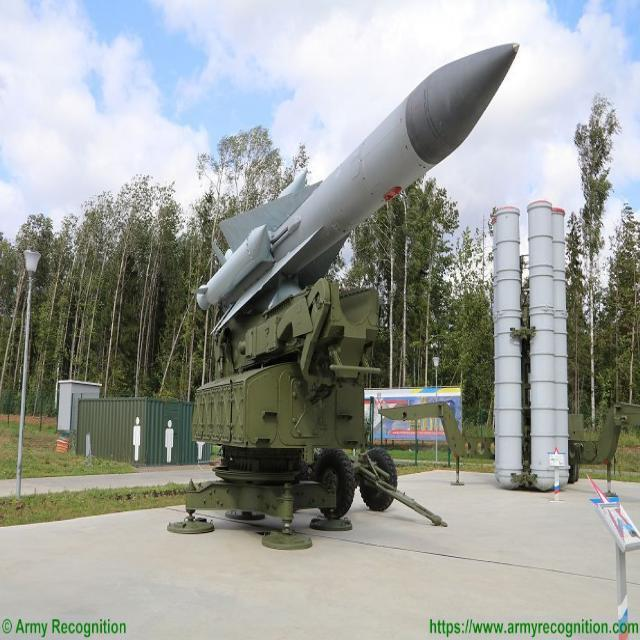Missile: (162, 27, 529, 358)
